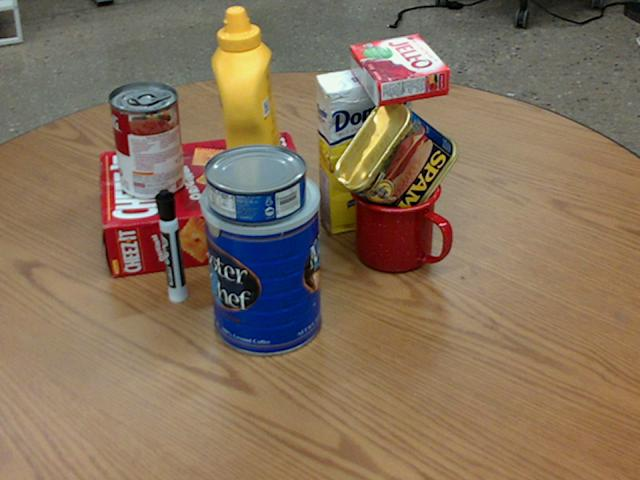cracker_box: (101, 135, 315, 277)
gelatin_box: (350, 35, 449, 105)
large_marker: (156, 190, 188, 303)
master_chef_can: (198, 163, 322, 354)
mug: (351, 165, 453, 273)
mustard_bottle: (211, 6, 286, 207)
potted_meat_can: (333, 98, 457, 225)
sugar_box: (316, 62, 412, 236)
tomato_soup_can: (108, 81, 183, 199)
tuna_fish_can: (203, 142, 306, 223)
